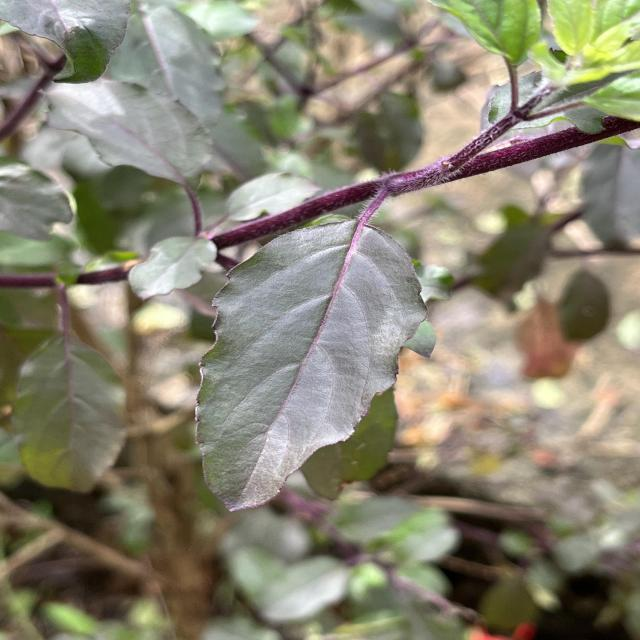Ocimum tenuiflorum: (192, 217, 430, 514)
